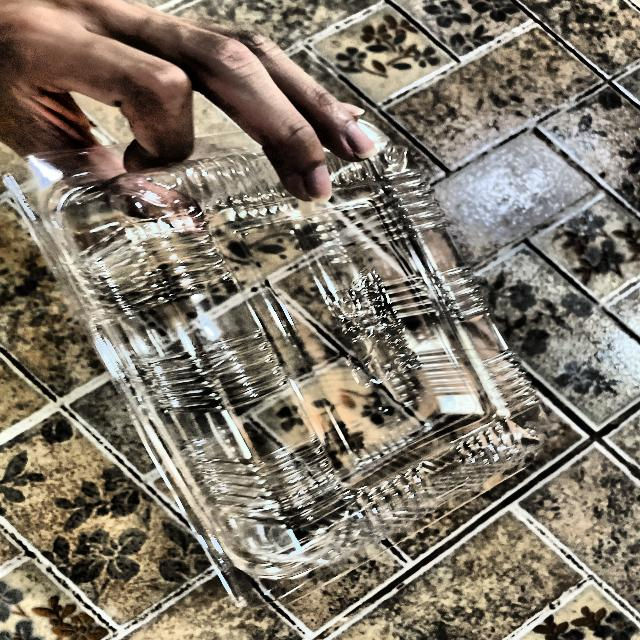plastic container: (22, 97, 547, 589)
